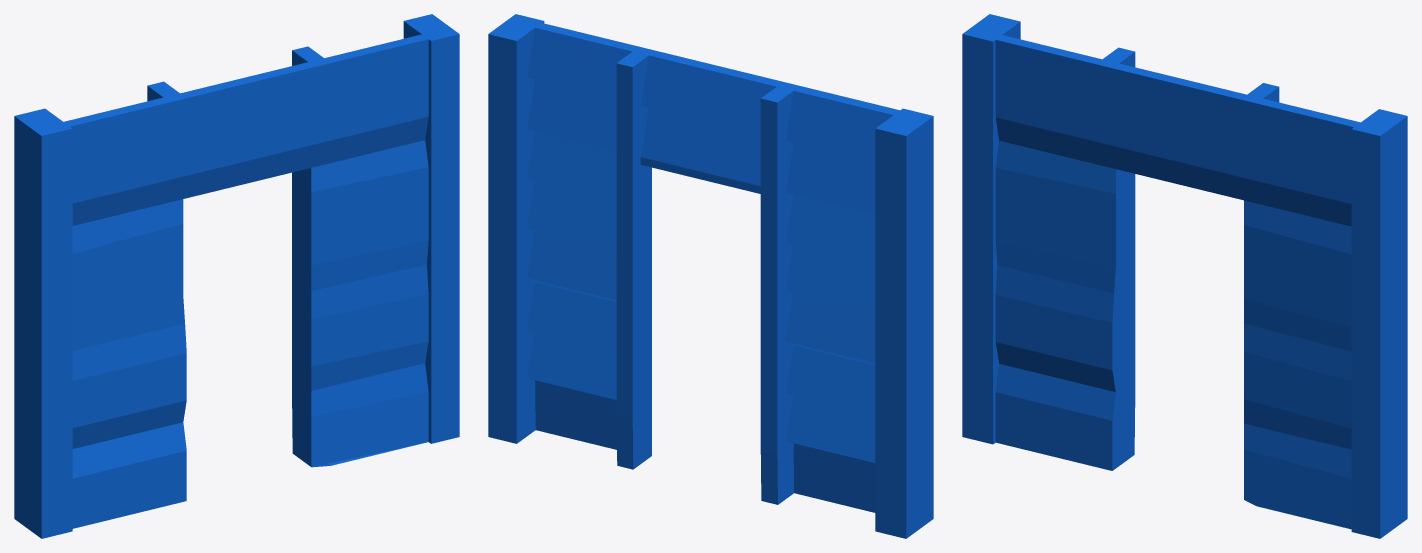
The model's file is korte muur+post.fbx.
The picture shows the model from 3 angles, left to right: view 1: azimuth 30°, elevation 25°; view 2: azimuth 150°, elevation 25°; view 3: azimuth 330°, elevation 25°; orthographic projection.
Parts seen in each view (by area): view 1: korte muur+post; view 2: korte muur+post; view 3: korte muur+post.
Part boxes in pixels (x1,y1,x2,y2): korte muur+post: [14, 14, 459, 538]; korte muur+post: [488, 14, 933, 538]; korte muur+post: [962, 14, 1407, 538].
Bounding box in the file's own units: 305 × 280 × 34.73.
